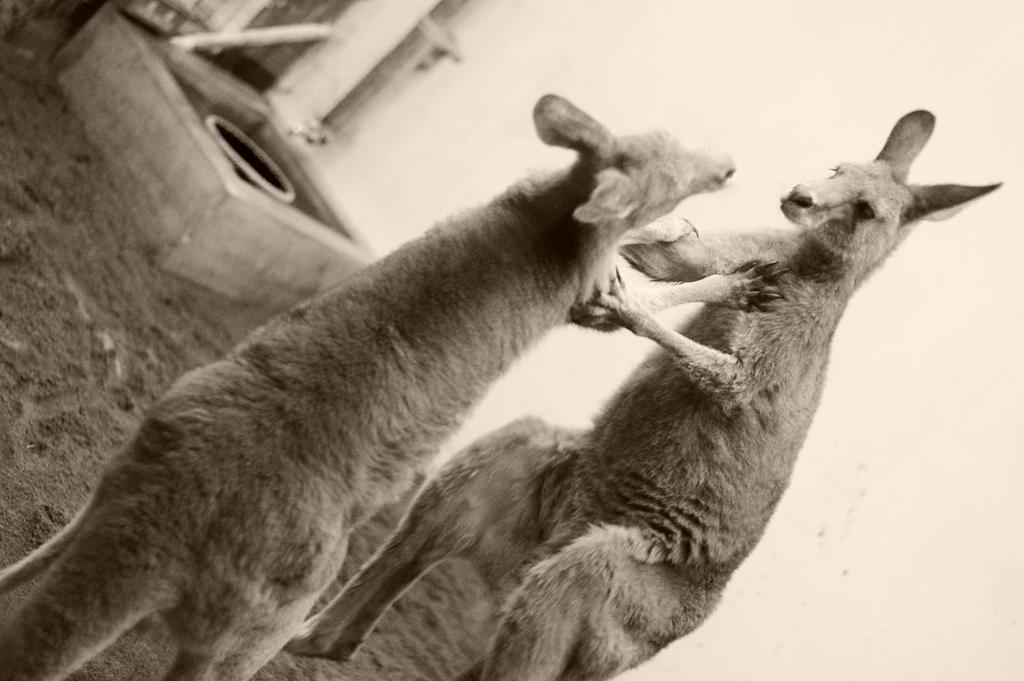kangaroo: (2, 94, 737, 680), (250, 112, 1006, 680)
